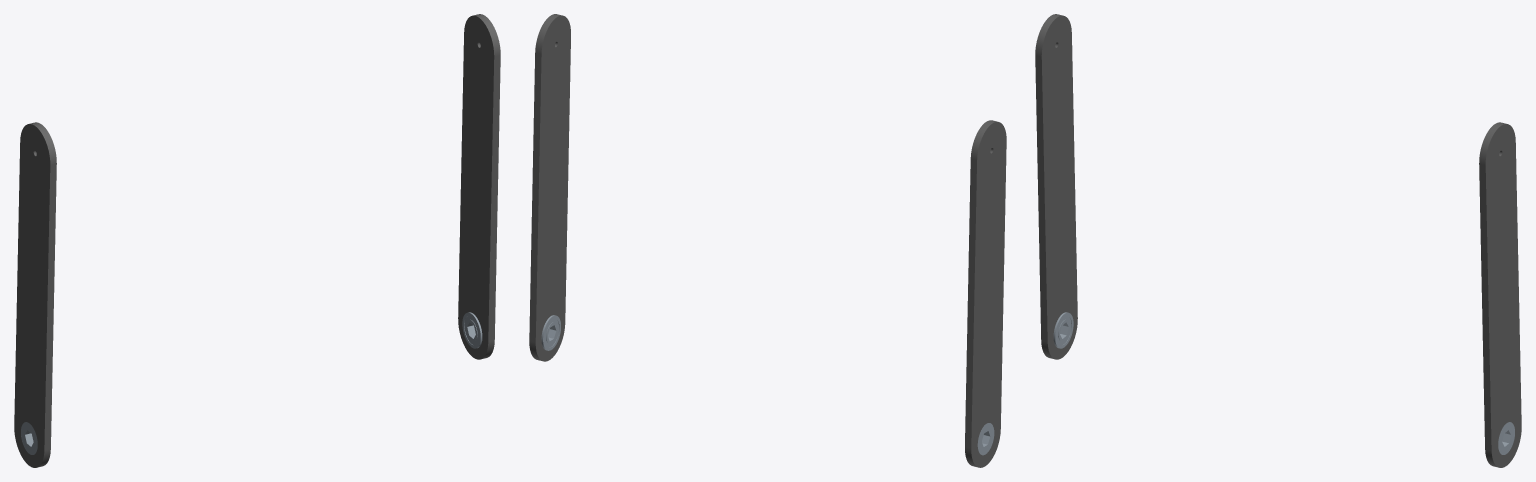
The picture shows the model from 3 angles, left to right: view 1: azimuth 30°, elevation 25°; view 2: azimuth 150°, elevation 25°; view 3: azimuth 330°, elevation 25°; orthographic projection.
Visible parts, largest first — view 1: Part 16, Part 11, .5" Hex ID 1.125" OD Flanged Bearing (217-2734); view 2: Part 16, Part 11, .5" Hex ID 1.125" OD Flanged Bearing (217-2734); view 3: Part 11, Part 16, .5" Hex ID 1.125" OD Flanged Bearing (217-2734).
Boxes of the visible parts, x1=… form: Part 16: x1=14, y1=122, x2=56, y2=467; Part 11: x1=458, y1=14, x2=500, y2=359; .5" Hex ID 1.125" OD Flanged Bearing (217-2734): x1=462, y1=312, x2=482, y2=348; Part 16: x1=965, y1=120, x2=1006, y2=467; Part 11: x1=529, y1=14, x2=570, y2=361; .5" Hex ID 1.125" OD Flanged Bearing (217-2734): x1=541, y1=315, x2=560, y2=350; Part 11: x1=1479, y1=122, x2=1521, y2=467; Part 16: x1=1035, y1=14, x2=1077, y2=359; .5" Hex ID 1.125" OD Flanged Bearing (217-2734): x1=1053, y1=312, x2=1073, y2=348.
Size of the model in its own units: 0.4382 by 0.3199 by 0.0608.
